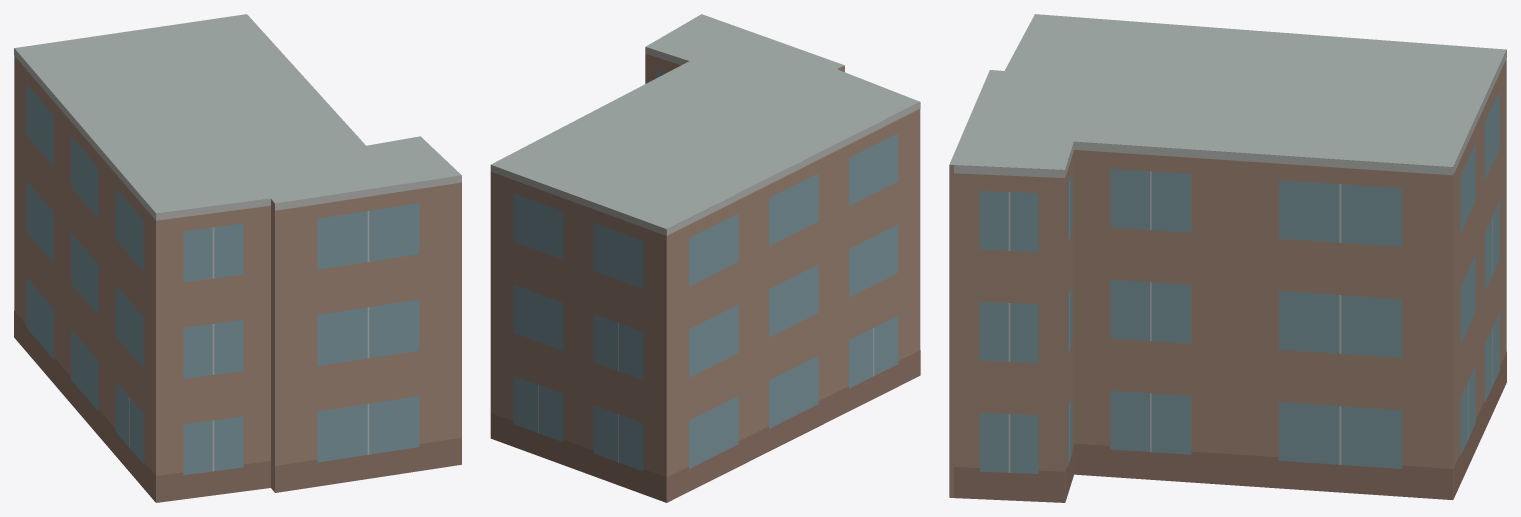
File: survey-upis-32906188.glb
3 views of the same model, side by side, from view 1: azimuth 30°, elevation 25°; view 2: azimuth 150°, elevation 25°; view 3: azimuth 270°, elevation 25° (orthographic). The views are drawn at different scales.
Parts seen in each view (by area): view 1: survey-upis-32906188.tmp; view 2: survey-upis-32906188.tmp; view 3: survey-upis-32906188.tmp.
Boxes of the visible parts, bbox=[...] form: survey-upis-32906188.tmp: bbox=[14, 14, 461, 502]; survey-upis-32906188.tmp: bbox=[490, 14, 920, 502]; survey-upis-32906188.tmp: bbox=[949, 14, 1506, 502].
Size of the model in its own units: 9.85 by 9.8 by 14.88.
